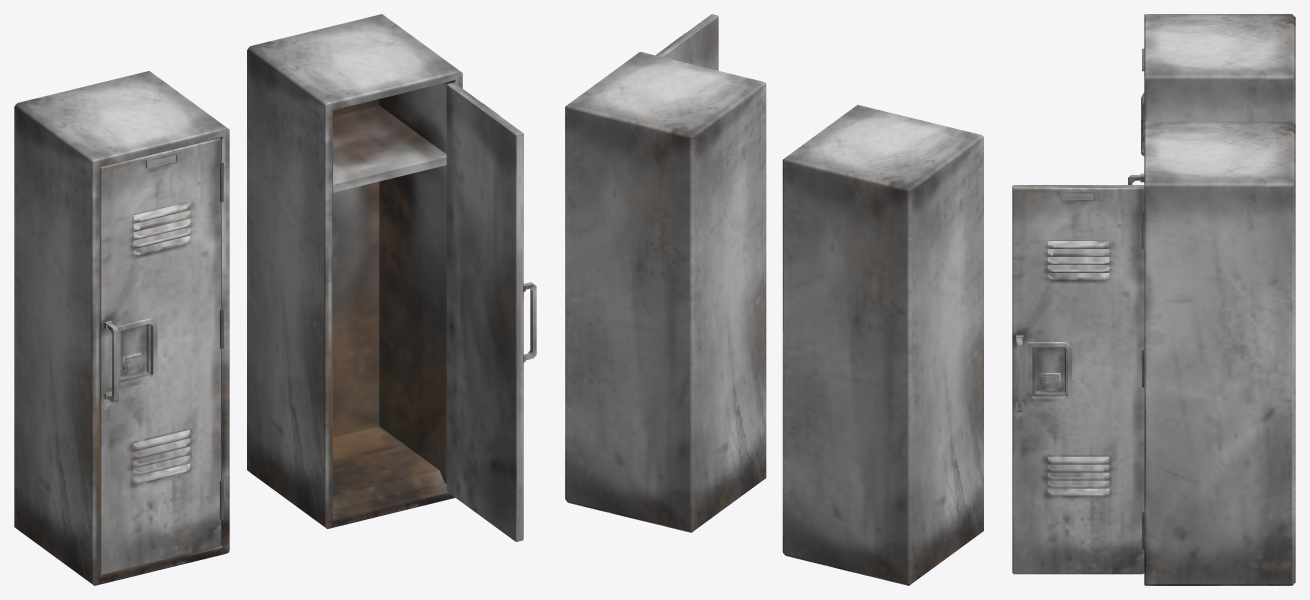
The model's file is Locker With Textures For Sketchfab.fbx.
3 renders of one model, left to right at view 1: azimuth 30°, elevation 25°; view 2: azimuth 150°, elevation 25°; view 3: azimuth 270°, elevation 25°, orthographic. The views are drawn at different scales.
Visible parts, largest first — view 1: Locker, Locker.003; view 2: Locker, Locker.003; view 3: Locker, Locker.003.
Boxes of the visible parts, bbox=[...] form: Locker: bbox=[247, 14, 536, 541]; Locker.003: bbox=[14, 71, 229, 585]; Locker: bbox=[565, 14, 766, 532]; Locker.003: bbox=[782, 105, 983, 585]; Locker: bbox=[1012, 121, 1295, 585]; Locker.003: bbox=[1128, 14, 1295, 185].
Bounding box in the file's own units: 117 × 127 × 80.65.
1 material, 1 textured.
